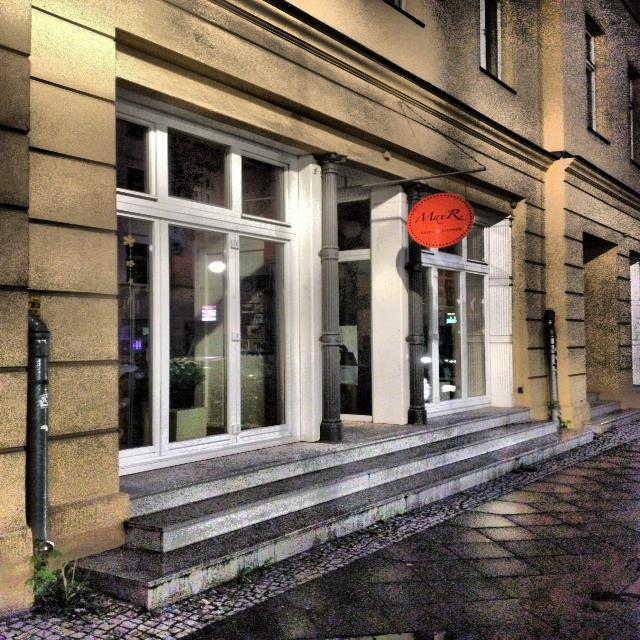escada: (116, 407, 589, 615)
